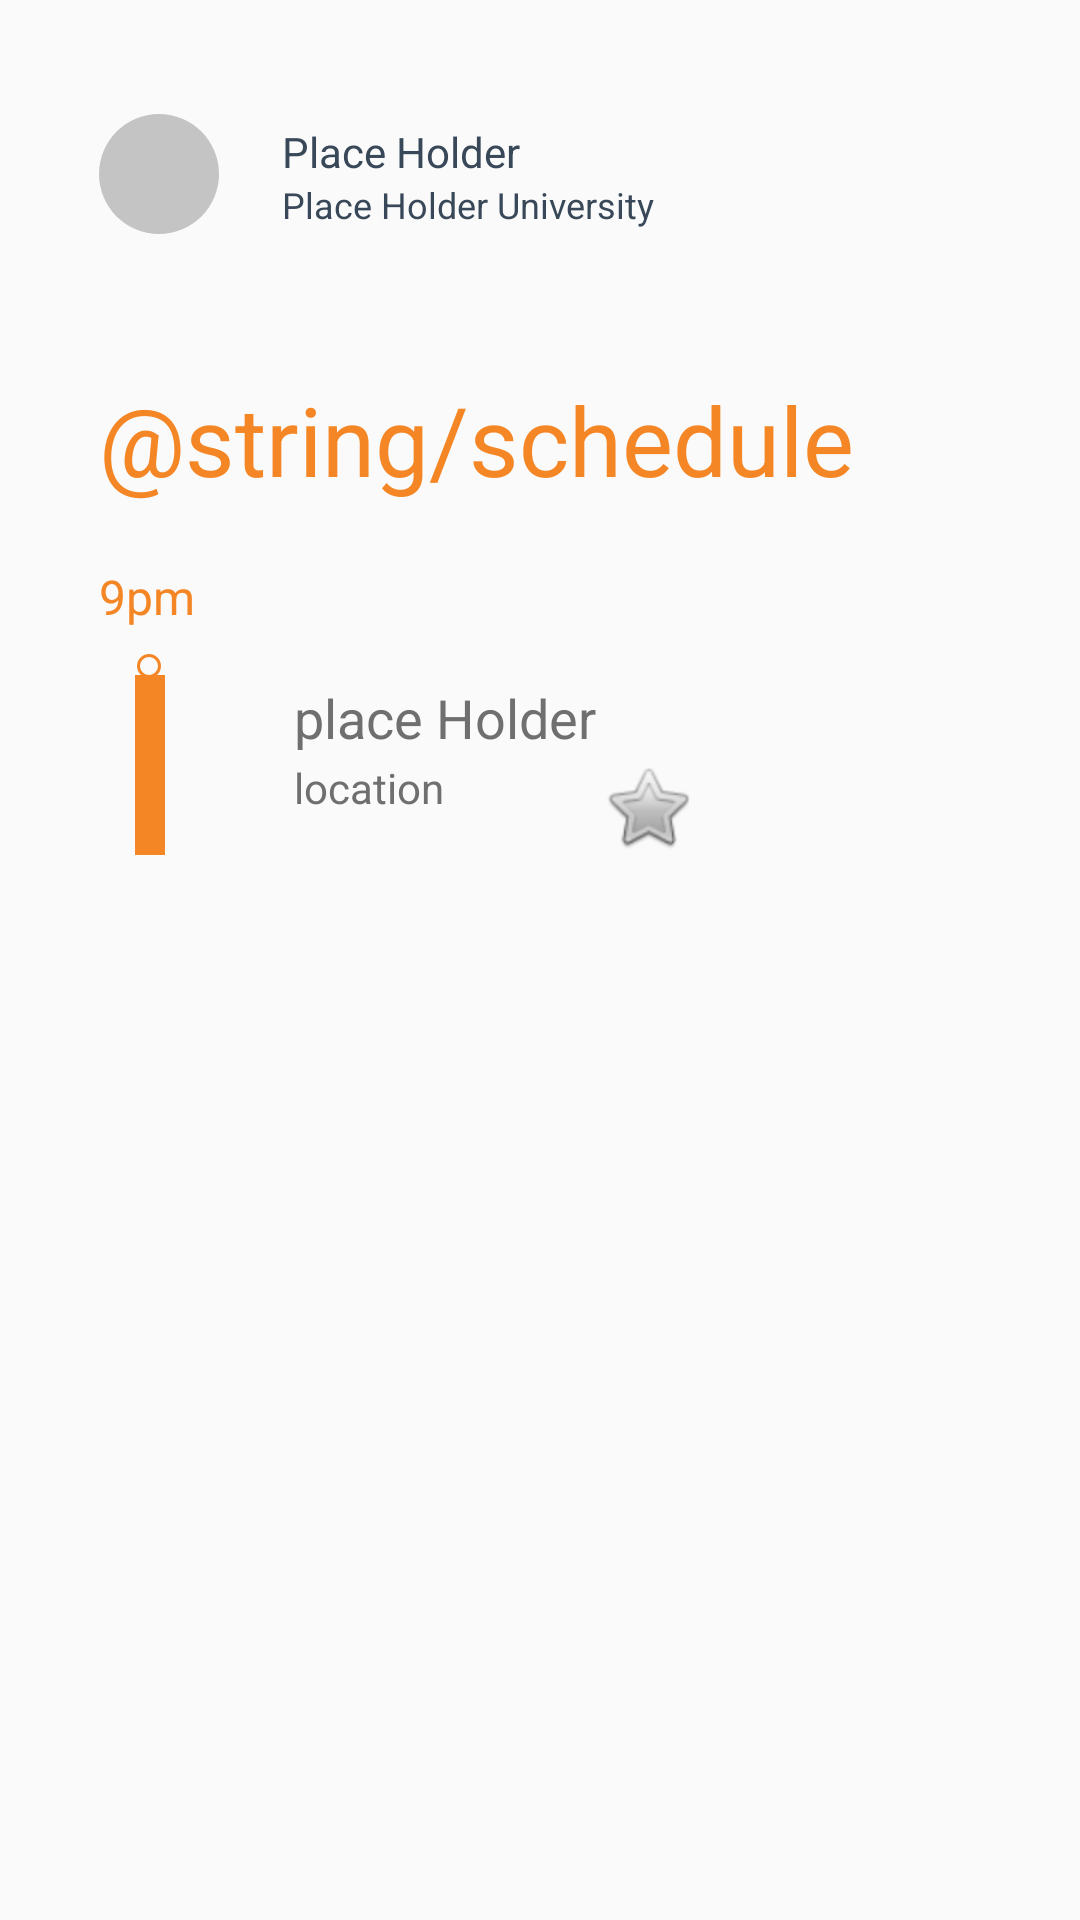

Icon bounding boxes for this 1080 x 1920 phone screenshot, format (x1, y1, x2, y2):
star: (609, 769, 689, 847)
